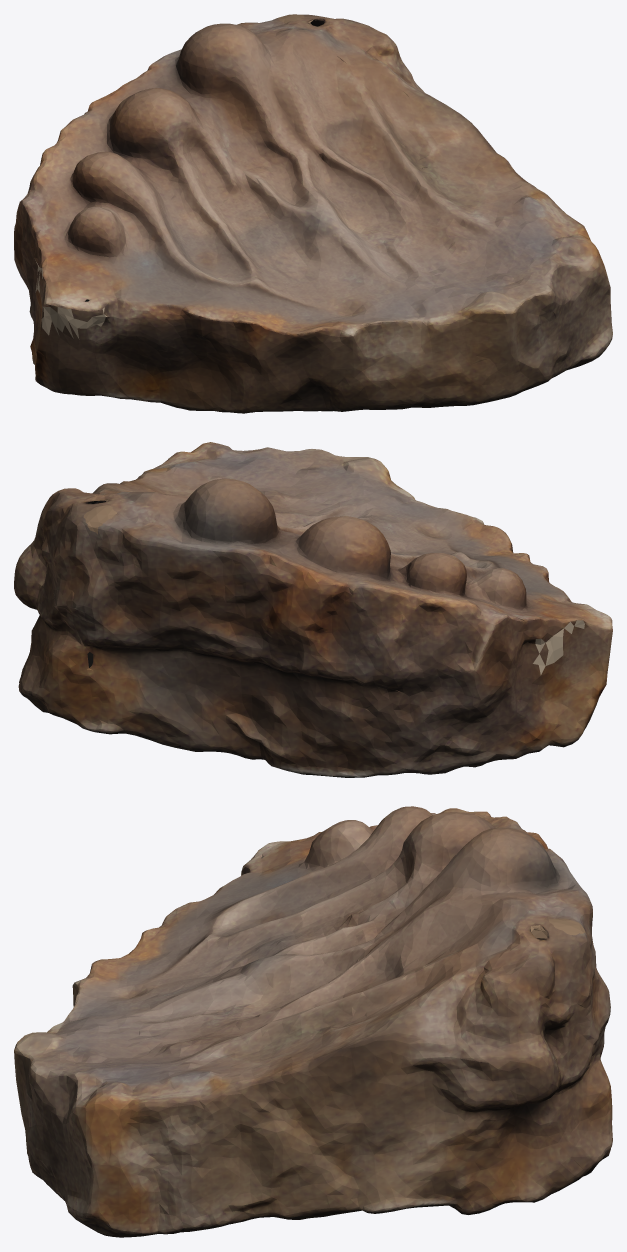
The picture shows the model from 3 angles, top to bottom: view 1: azimuth 30°, elevation 25°; view 2: azimuth 150°, elevation 25°; view 3: azimuth 270°, elevation 25°; orthographic projection. The views are drawn at different scales.
Visible parts, largest first — view 1: world; view 2: world; view 3: world.
Boxes of the visible parts, x1,y1,x2,y2 form: world: (14, 14, 612, 413); world: (14, 442, 612, 777); world: (14, 806, 612, 1237).
Bounding box in the file's own units: 0.6 × 0.3032 × 0.5515.
1 material, 1 textured.
